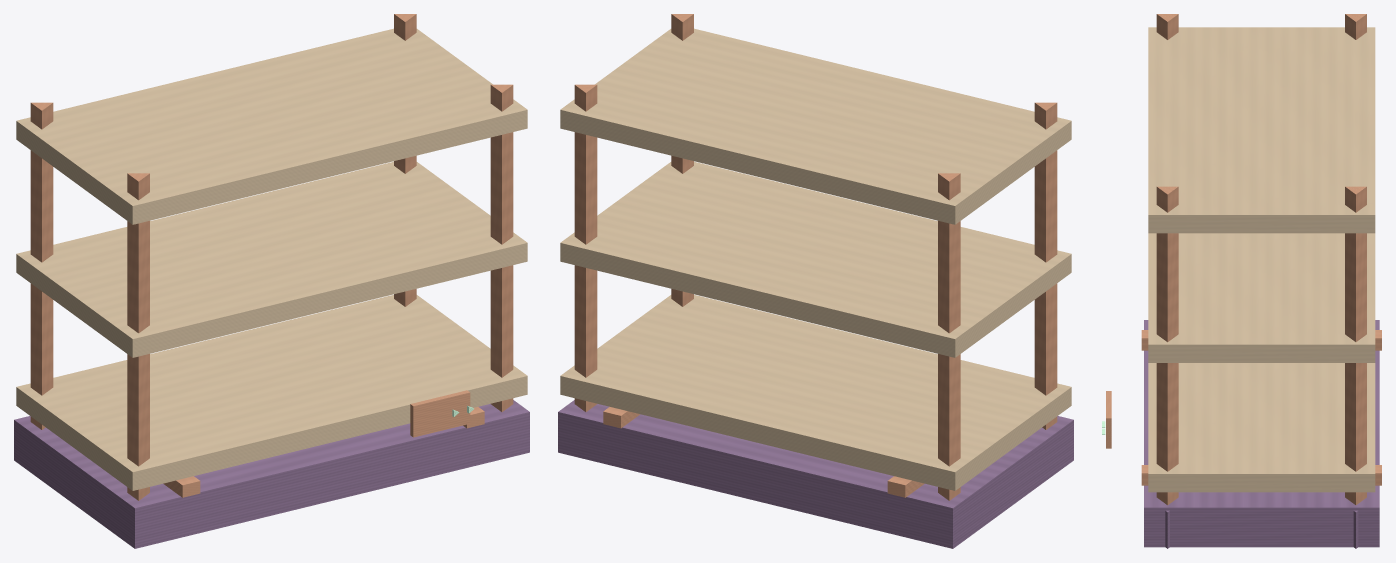
File: atlas100-s089-a06.lod1.glb
3 views of the same model, side by side, from view 1: azimuth 30°, elevation 25°; view 2: azimuth 150°, elevation 25°; view 3: azimuth 270°, elevation 25° (orthographic). The views are drawn at different scales.
Parts seen in each view (by area): view 1: atlas100-s089-a06:part-013, atlas100-s089-a06:part-012, atlas100-s089-a06:part-011, atlas100-s089-a06:part-000, atlas100-s089-a06:part-009, atlas100-s089-a06:part-005, atlas100-s089-a06:part-003, atlas100-s089-a06:part-014, atlas100-s089-a06:part-007; view 2: atlas100-s089-a06:part-013, atlas100-s089-a06:part-012, atlas100-s089-a06:part-011, atlas100-s089-a06:part-000, atlas100-s089-a06:part-007, atlas100-s089-a06:part-003, atlas100-s089-a06:part-005, atlas100-s089-a06:part-009; view 3: atlas100-s089-a06:part-013, atlas100-s089-a06:part-011, atlas100-s089-a06:part-012, atlas100-s089-a06:part-000, atlas100-s089-a06:part-009, atlas100-s089-a06:part-007, atlas100-s089-a06:part-005, atlas100-s089-a06:part-003, atlas100-s089-a06:part-014.
Part boxes in pixels (x1=…): atlas100-s089-a06:part-013: x1=16, y1=28, x2=527, y2=224; atlas100-s089-a06:part-012: x1=16, y1=161, x2=527, y2=357; atlas100-s089-a06:part-011: x1=16, y1=295, x2=527, y2=490; atlas100-s089-a06:part-000: x1=14, y1=400, x2=529, y2=548; atlas100-s089-a06:part-009: x1=490, y1=84, x2=513, y2=411; atlas100-s089-a06:part-005: x1=127, y1=173, x2=149, y2=500; atlas100-s089-a06:part-003: x1=30, y1=102, x2=53, y2=429; atlas100-s089-a06:part-014: x1=410, y1=390, x2=470, y2=437; atlas100-s089-a06:part-007: x1=394, y1=14, x2=416, y2=306; atlas100-s089-a06:part-013: x1=560, y1=28, x2=1071, y2=224; atlas100-s089-a06:part-012: x1=560, y1=161, x2=1071, y2=357; atlas100-s089-a06:part-011: x1=560, y1=295, x2=1071, y2=490; atlas100-s089-a06:part-000: x1=558, y1=400, x2=1073, y2=548; atlas100-s089-a06:part-007: x1=574, y1=84, x2=597, y2=411; atlas100-s089-a06:part-003: x1=938, y1=173, x2=960, y2=500; atlas100-s089-a06:part-005: x1=1034, y1=102, x2=1057, y2=429; atlas100-s089-a06:part-009: x1=671, y1=14, x2=693, y2=306; atlas100-s089-a06:part-013: x1=1148, y1=27, x2=1375, y2=233; atlas100-s089-a06:part-011: x1=1148, y1=363, x2=1375, y2=492; atlas100-s089-a06:part-012: x1=1148, y1=233, x2=1375, y2=362; atlas100-s089-a06:part-000: x1=1144, y1=320, x2=1379, y2=547; atlas100-s089-a06:part-009: x1=1156, y1=186, x2=1178, y2=505; atlas100-s089-a06:part-007: x1=1345, y1=186, x2=1366, y2=504; atlas100-s089-a06:part-005: x1=1156, y1=14, x2=1178, y2=39; atlas100-s089-a06:part-003: x1=1345, y1=14, x2=1366, y2=39; atlas100-s089-a06:part-014: x1=1106, y1=391, x2=1111, y2=448.
Size of the model in its own units: 2.66 by 2.3 by 1.66.
4 materials, 4 textured.
